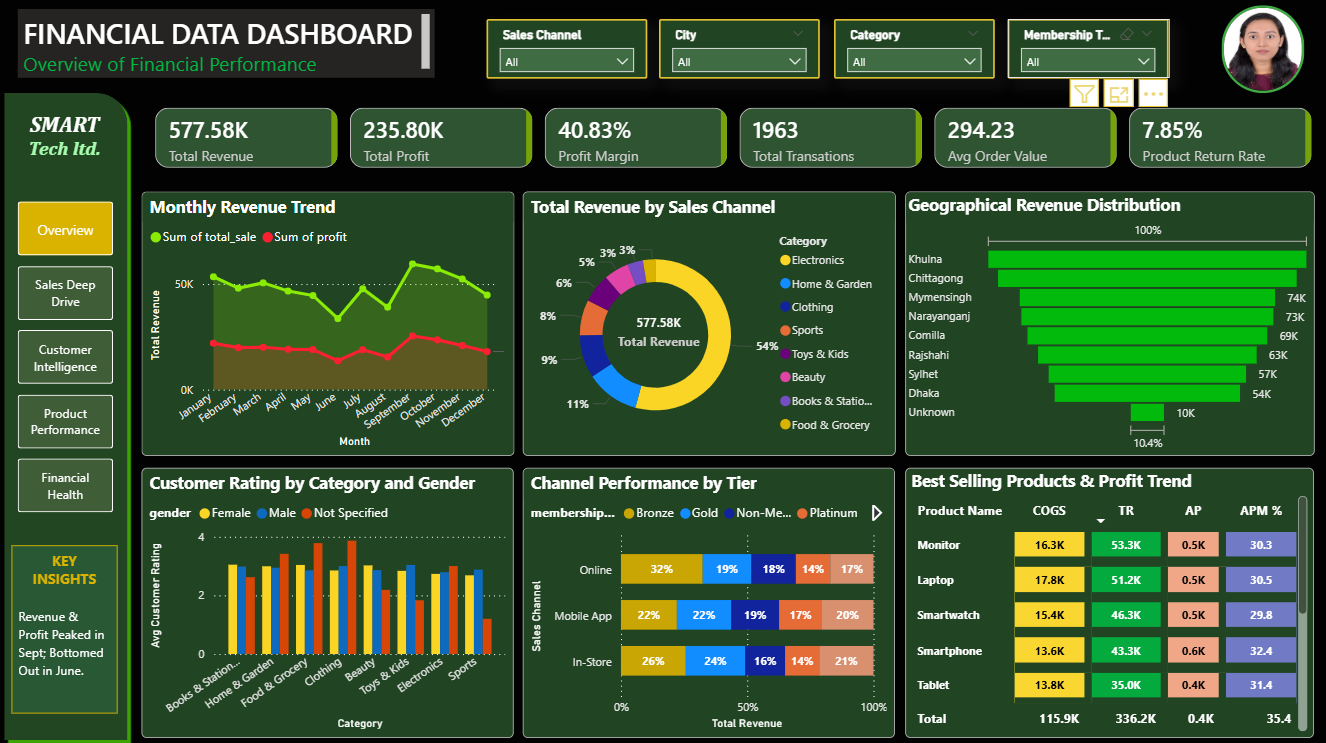

Layout of this report page (visuals, bound fields, positions):
{"tool":"powerbi","page":{"name":"Overview","canvas":[1280,720],"ordinal":0},"visuals":[{"type":"lineChart","title":"Monthly Revenue Trend","fields":{"Y":["Sum(public retail_sales.total_sale)","Sum(public retail_sales.profit)"],"Category":["public retail_sales.sale_date.Variation.Date Hierarchy.Year","public retail_sales.sale_date.Variation.Date Hierarchy.Quarter","public retail_sales.sale_date.Variation.Date Hierarchy.Month"]},"box":[137.5,186.2,360,255],"z":0},{"type":"funnel","title":"Geographical Revenue Distribution","fields":{"Category":["public retail_sales.city"],"Y":["Sum(public retail_sales.total_sale)"]},"box":[875,186.2,395,255],"z":1000},{"type":"donutChart","title":"Total Revenue by Sales Channel","fields":{"Y":["Sum(public retail_sales.total_sale)"],"Category":["public retail_sales.category"]},"box":[505,186.2,360,255],"z":2000},{"type":"tableEx","title":"Best Selling Products & Profit Trend","fields":{"Values":["public retail_sales.product_name","Sum(public retail_sales.cogs)","Sum(public retail_sales.total_sale)","Avg(public retail_sales.profit)","Avg(public retail_sales.profit_margin_pct)"]},"box":[874.7,452.4,394.5,260.6],"z":3000},{"type":"hundredPercentStackedBarChart","title":"Channel Performance by Tier","fields":{"Series":["public retail_sales.membership_tier"],"Category":["public retail_sales.sales_channel"],"Y":["Sum(public retail_sales.total_sale)"]},"box":[505.5,452.4,359.5,260.6],"z":4000},{"type":"clusteredColumnChart","title":"Customer Rating by Category and Gender","fields":{"Category":["public retail_sales.category"],"Y":["Avg(public retail_sales.customer_rating)"],"Series":["public retail_sales.gender"]},"box":[137.5,452.4,359.5,260.6],"z":5000},{"type":"cardVisual","fields":{"Data":["public retail_sales.Total Revenue","public retail_sales.Total Profit","public retail_sales.Profit Margin","public retail_sales.Total Transations","public retail_sales.Avg Order Value","public retail_sales.Product Return Rate %"]},"box":[138.8,92.5,1141.2,82.5],"z":6000},{"type":"textbox","box":[17.5,10,402.5,66.2],"z":7000},{"type":"cardVisual","fields":{"Data":["public retail_sales.Total Revenue"]},"box":[559.8,269,154.4,105],"z":8000},{"type":"shape","box":[0,85.7,129.1,634.6],"z":9000},{"type":"textbox","box":[8.4,103.8,109.8,60.3],"z":10000},{"type":"slicer","fields":{"Values":["public retail_sales.sales_channel"]},"box":[470,18.8,155,57.5],"z":11000},{"type":"image","box":[1179.9,6,79.6,85],"z":12000},{"type":"slicer","fields":{"Values":["public retail_sales.city"]},"box":[637.5,18.8,155,57.5],"z":13000},{"type":"slicer","fields":{"Values":["public retail_sales.category"]},"box":[806.2,18.8,155,57.5],"z":14000},{"type":"slicer","fields":{"Values":["public retail_sales.membership_tier"]},"box":[973.8,18.8,155,57.5],"z":15000},{"type":"pageNavigator","box":[17.5,195,92.5,300],"z":16000},{"type":"textbox","box":[12.5,527.5,102.5,162.5],"z":17000}]}

Visuals, with their boxes in screenshot pixels (x1, y1, x2, y2), scaled from the page's 1280x720 canvas onto the 1326x743 screenshot:
"Monthly Revenue Trend" lineChart: <bbox>142, 192, 515, 455</bbox>
"Geographical Revenue Distribution" funnel: <bbox>906, 192, 1316, 455</bbox>
"Total Revenue by Sales Channel" donutChart: <bbox>523, 192, 896, 455</bbox>
"Best Selling Products & Profit Trend" tableEx: <bbox>906, 467, 1315, 736</bbox>
"Channel Performance by Tier" hundredPercentStackedBarChart: <bbox>524, 467, 896, 736</bbox>
"Customer Rating by Category and Gender" clusteredColumnChart: <bbox>142, 467, 515, 736</bbox>
cardVisual - public retail_sales.Total Revenue x public retail_sales.Total Profit: <bbox>144, 95, 1325, 181</bbox>
textbox: <bbox>18, 10, 435, 79</bbox>
cardVisual - public retail_sales.Total Revenue: <bbox>580, 278, 740, 386</bbox>
shape: <bbox>0, 88, 134, 742</bbox>
textbox: <bbox>9, 107, 122, 169</bbox>
slicer - public retail_sales.sales_channel: <bbox>487, 19, 647, 79</bbox>
image: <bbox>1222, 6, 1305, 94</bbox>
slicer - public retail_sales.city: <bbox>660, 19, 821, 79</bbox>
slicer - public retail_sales.category: <bbox>835, 19, 996, 79</bbox>
slicer - public retail_sales.membership_tier: <bbox>1009, 19, 1169, 79</bbox>
pageNavigator: <bbox>18, 201, 114, 511</bbox>
textbox: <bbox>13, 544, 119, 712</bbox>
